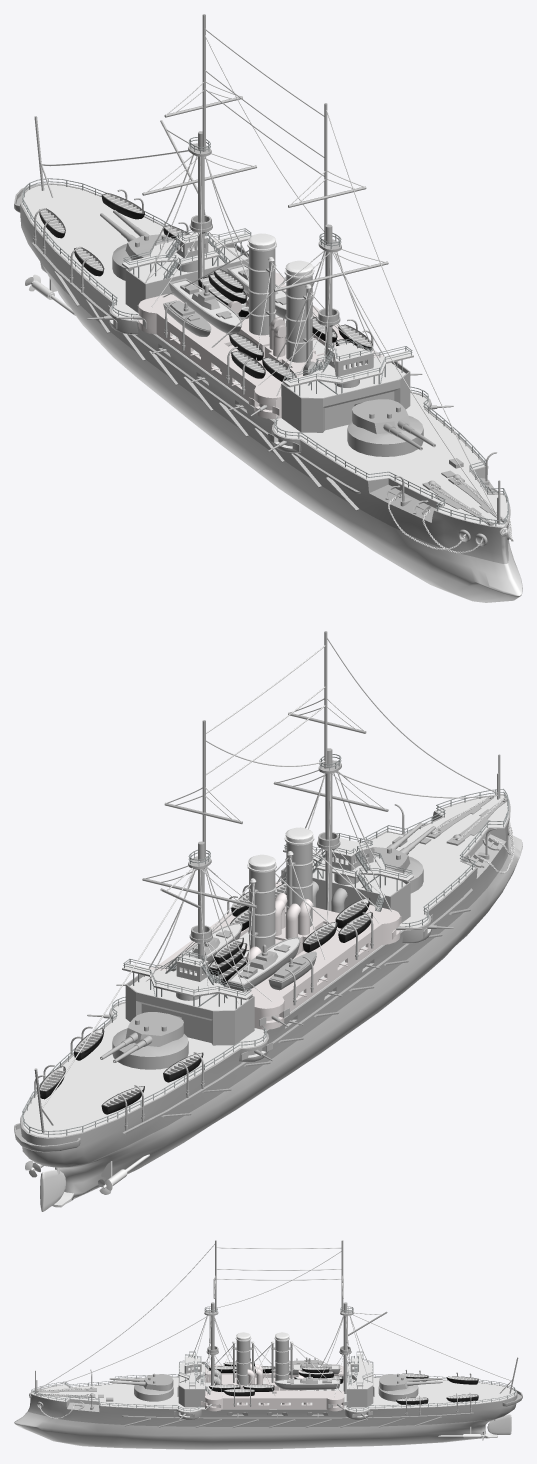
File: mikasa2.fbx
3 views of the same model, one above another, from view 1: azimuth 30°, elevation 25°; view 2: azimuth 150°, elevation 25°; view 3: azimuth 270°, elevation 25° (orthographic). The views are drawn at different scales.
Visible parts, largest first — view 1: hune:Empty_Mesh1_MeshPart0_MeshPart0; view 2: hune:Empty_Mesh1_MeshPart0_MeshPart0; view 3: hune:Empty_Mesh1_MeshPart0_MeshPart0.
Boxes of the visible parts, box(x1,y1,x2,y2) form: hune:Empty_Mesh1_MeshPart0_MeshPart0: box(14, 14, 522, 602); hune:Empty_Mesh1_MeshPart0_MeshPart0: box(14, 631, 522, 1211); hune:Empty_Mesh1_MeshPart0_MeshPart0: box(14, 1240, 522, 1449).
Size of the model in its own units: 25.95 by 52.76 by 118.
